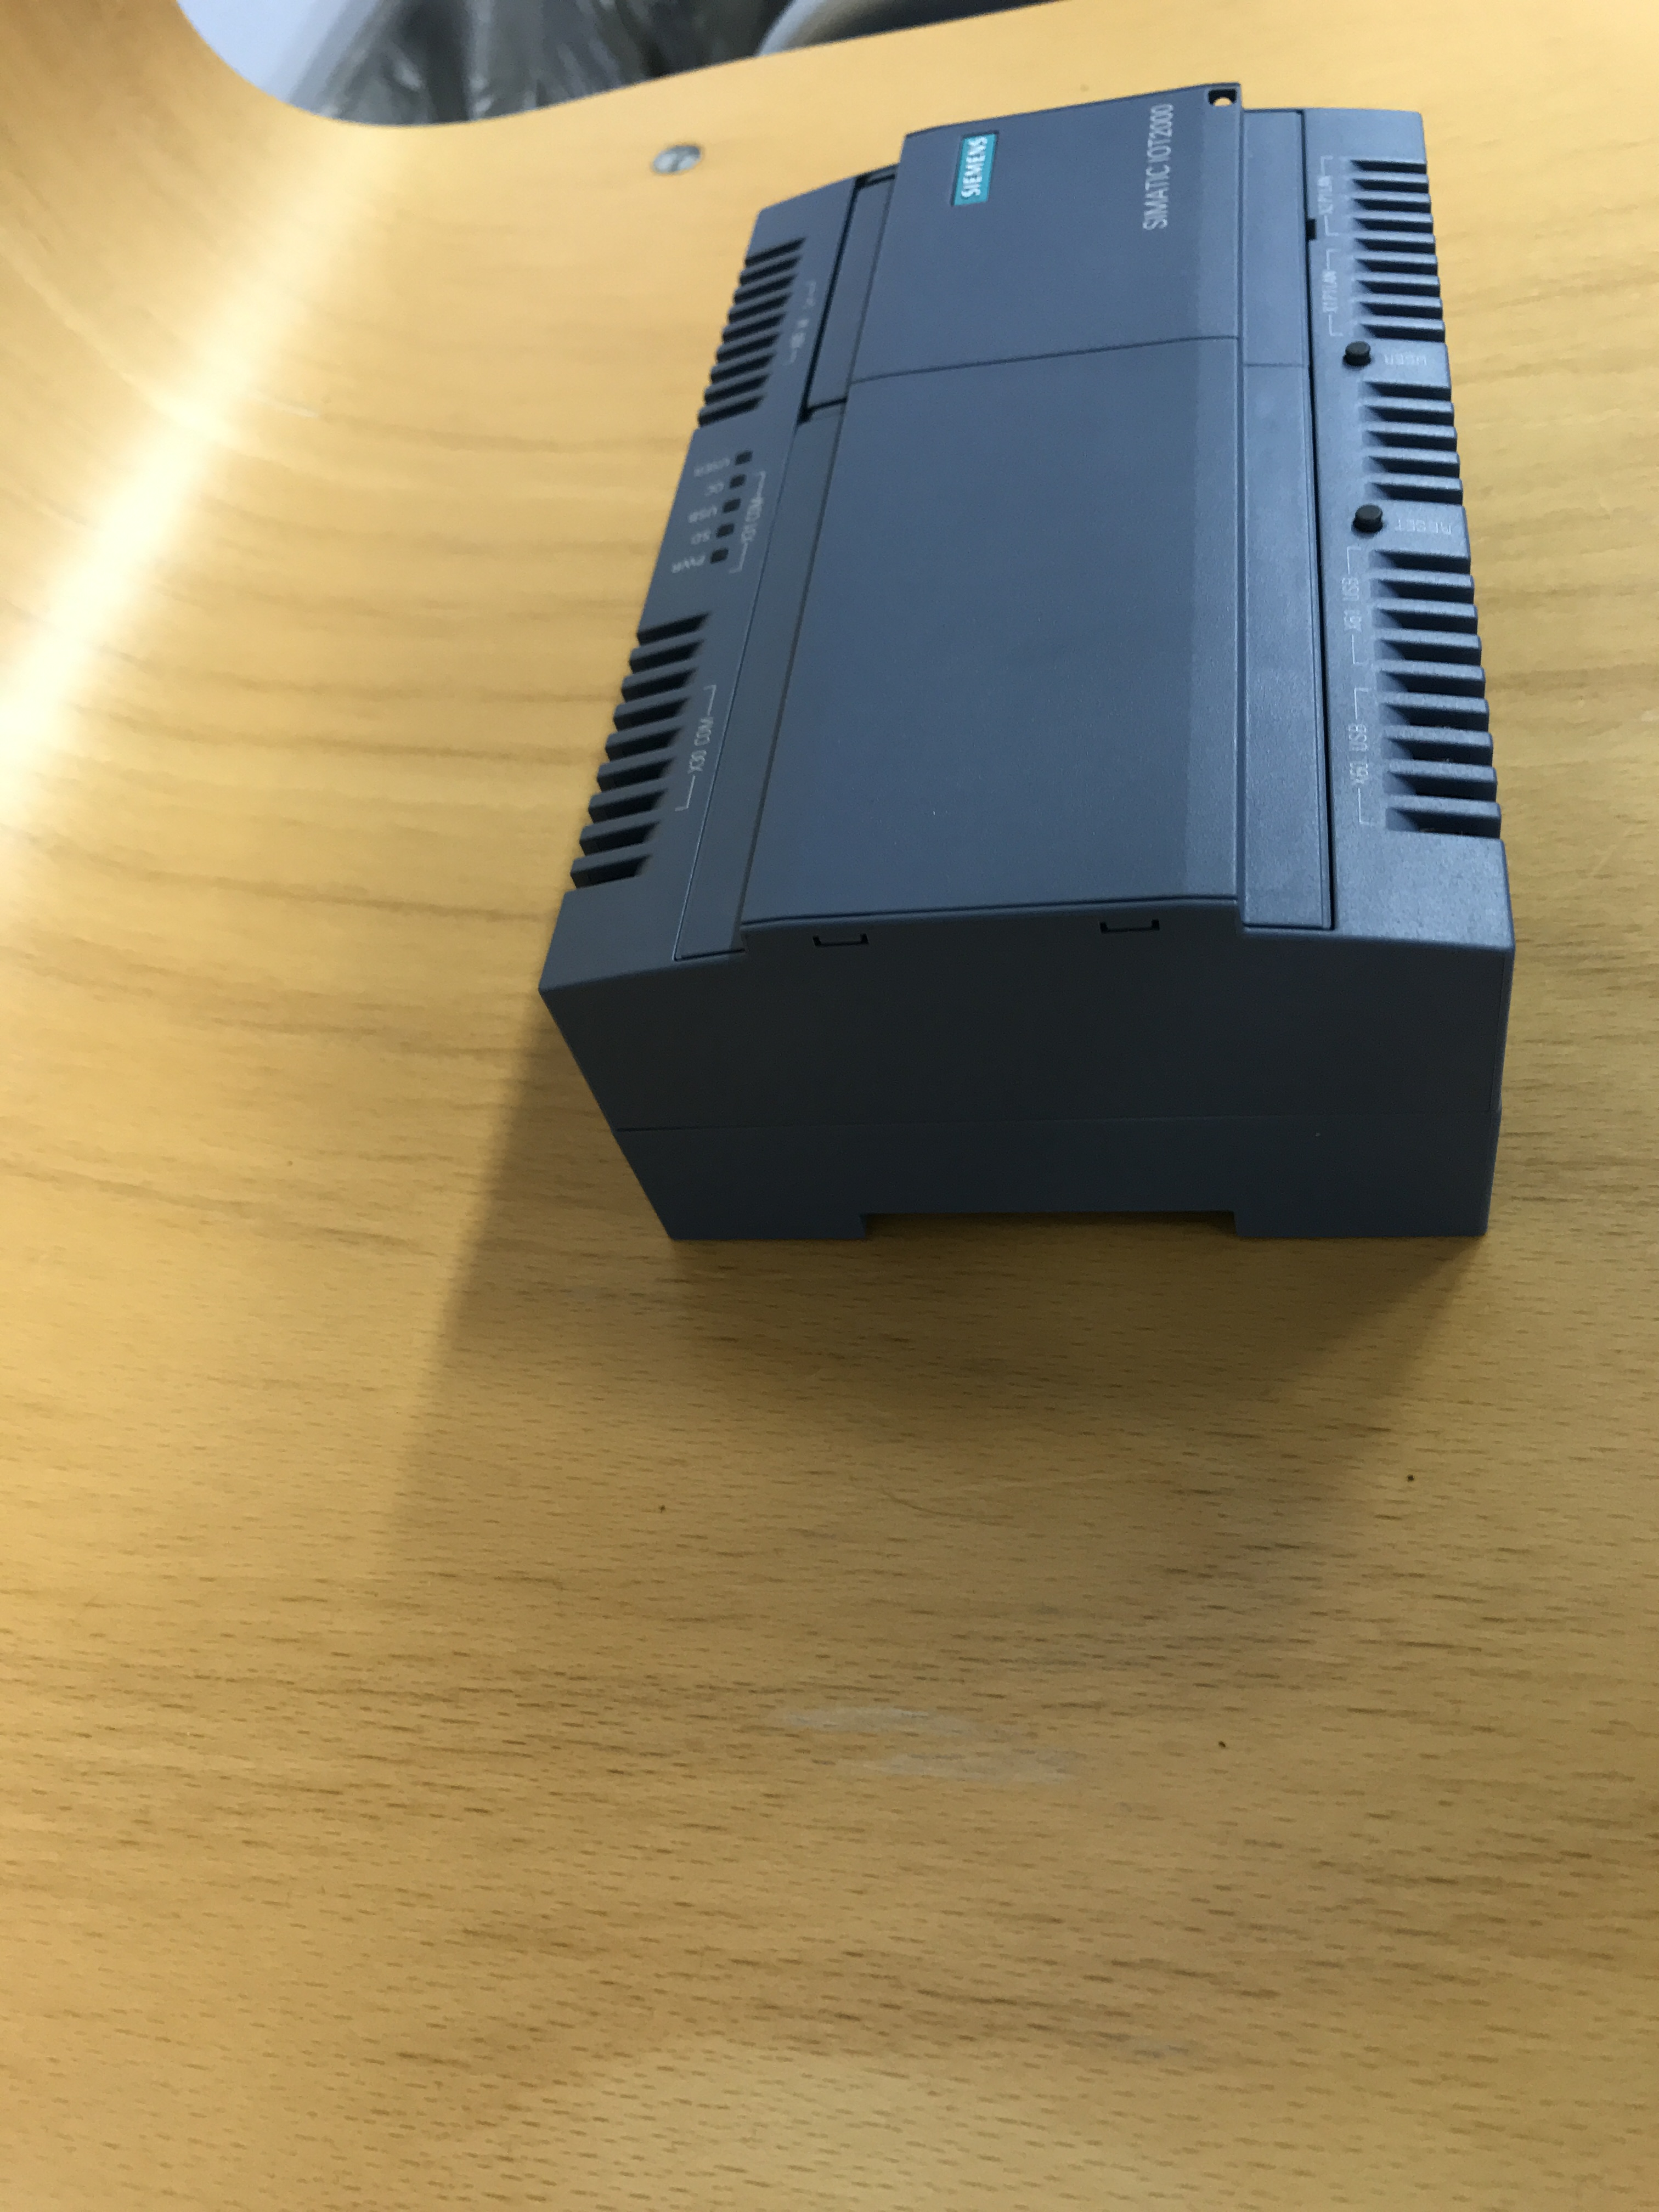device: (533, 78, 1520, 1244)
